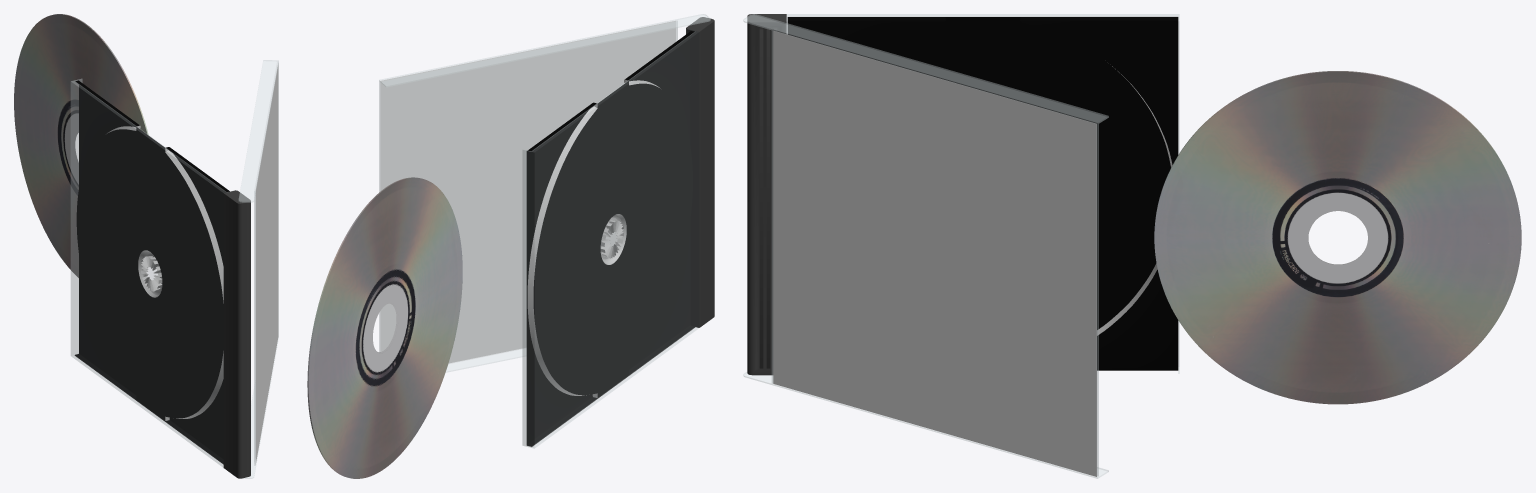
3 views of the same model, side by side, from view 1: azimuth 30°, elevation 25°; view 2: azimuth 150°, elevation 25°; view 3: azimuth 270°, elevation 25° (orthographic). The views are drawn at different scales.
Visible parts, largest first — view 1: Case Back, CD, Case Front; view 2: Case Back, Case Front, CD; view 3: Case Front, CD, Case Back.
Boxes of the visible parts, bbox=[...] form: Case Back: bbox=[71, 79, 250, 478]; CD: bbox=[14, 14, 148, 277]; Case Front: bbox=[239, 60, 278, 478]; Case Back: bbox=[522, 17, 714, 448]; Case Front: bbox=[379, 14, 710, 372]; CD: bbox=[307, 177, 462, 478]; Case Front: bbox=[743, 14, 1108, 478]; CD: bbox=[1154, 71, 1521, 404]; Case Back: bbox=[747, 14, 1179, 375].
Bounding box in the file's own units: 1.33 × 2 × 3.96.
8 materials, 2 textured.
